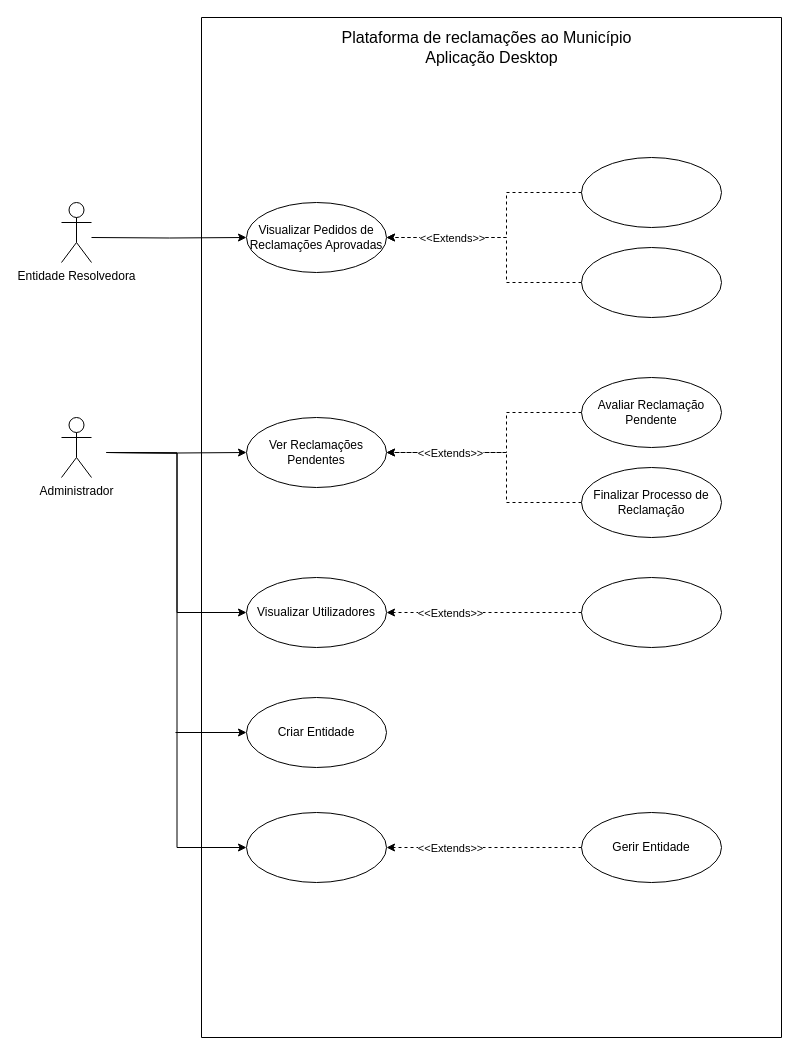
Some shapes in this 799 by 1055 pixel diagram are drawn without their labels. Each missing label, with the centre of its shape:
"Gerir Utilizadores" belongs at pixel 651 612.
"Iniciar Processo de Resolução de Reclamação" belongs at pixel 651 192.
"Terminar processo" belongs at pixel 651 282.
"Visualizar Entidades" belongs at pixel 316 847.
